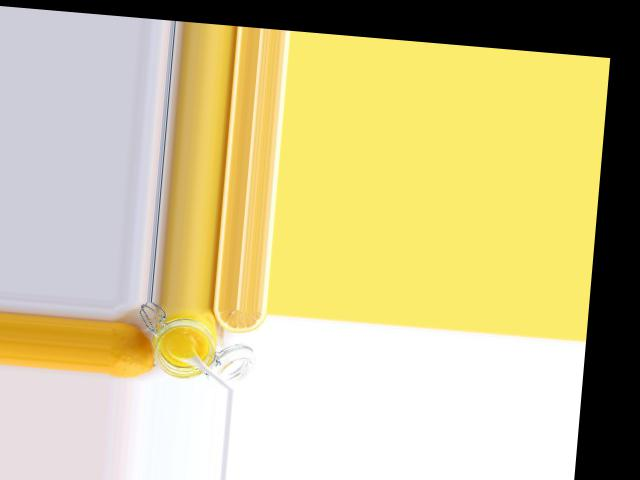lemon: (107, 322, 159, 378)
